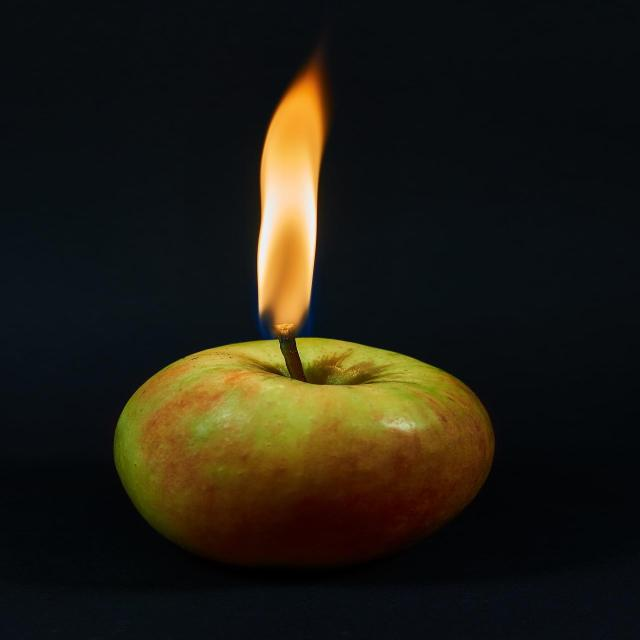Fire_Save: (254, 42, 328, 339)
